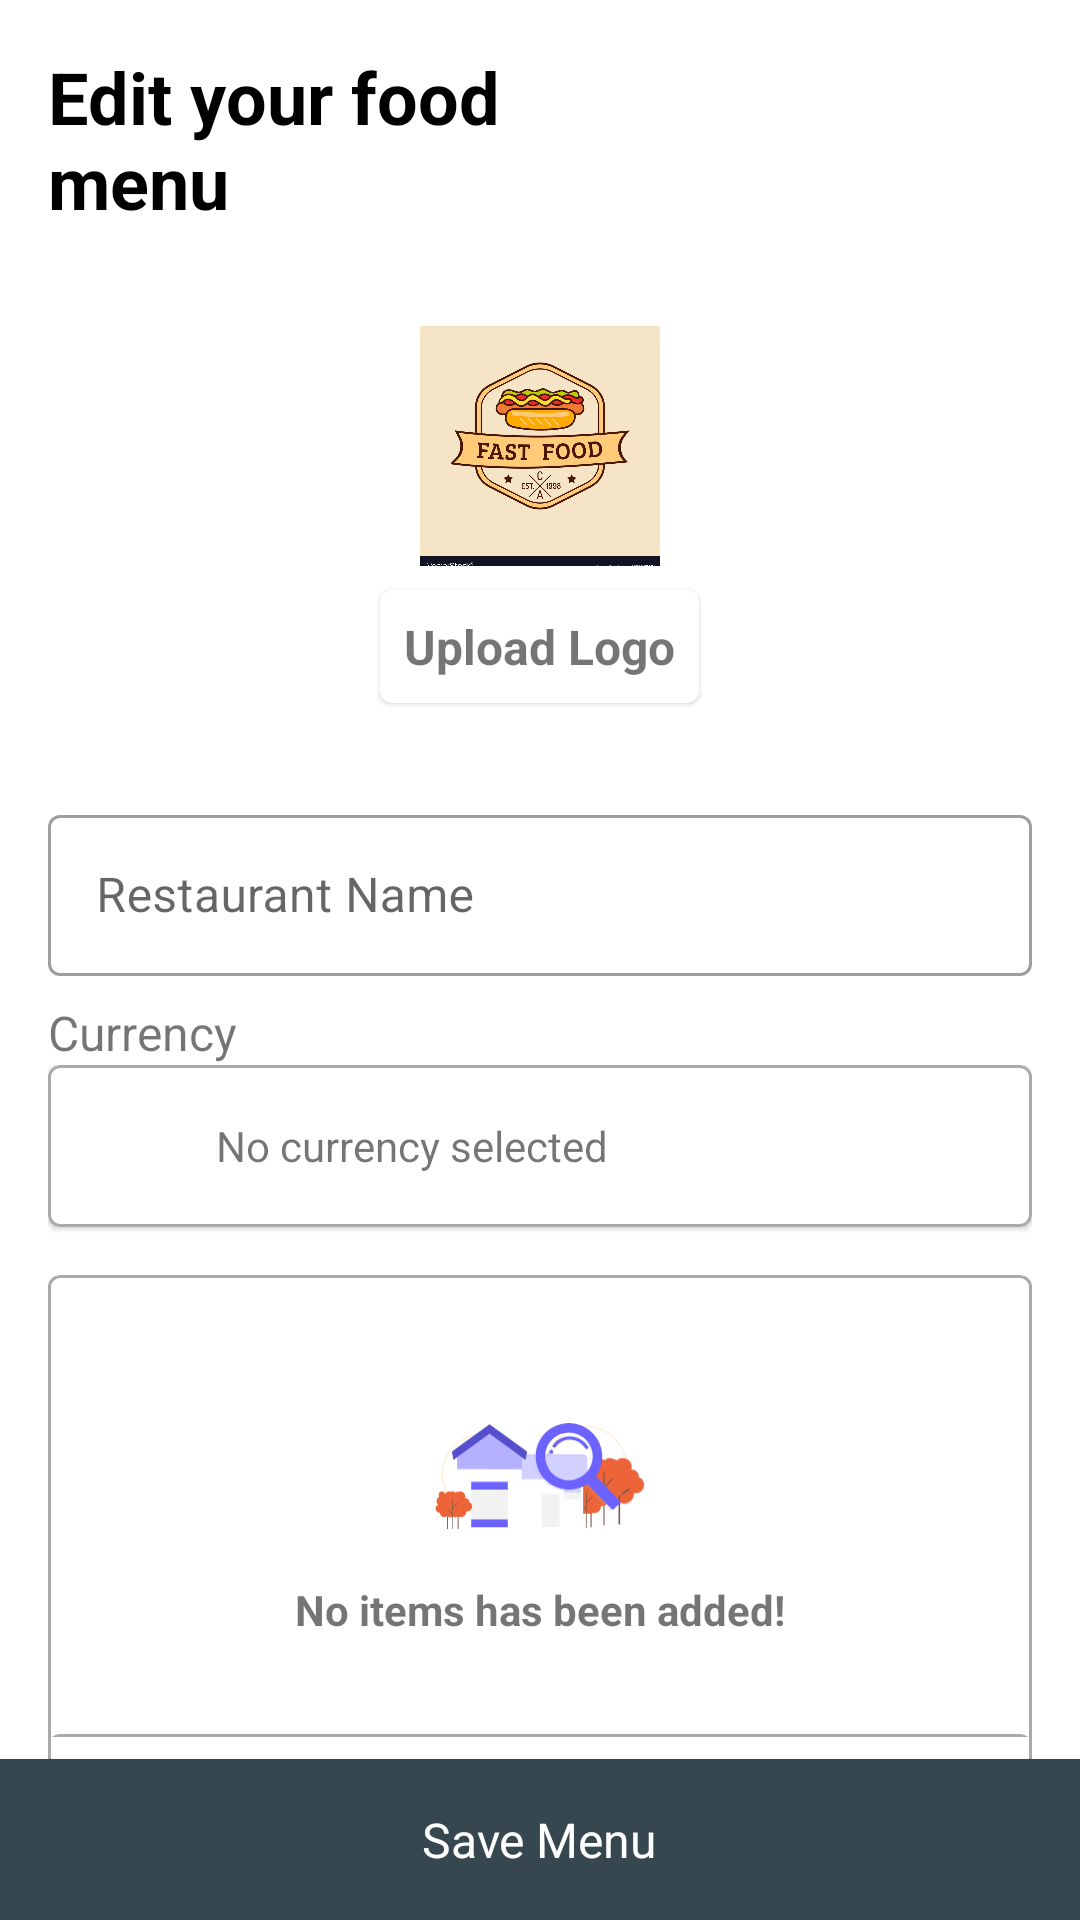

Point at icon controls on the screen. Image size 1080 × 1920, points as [x,y].
house search: [539,1476]
